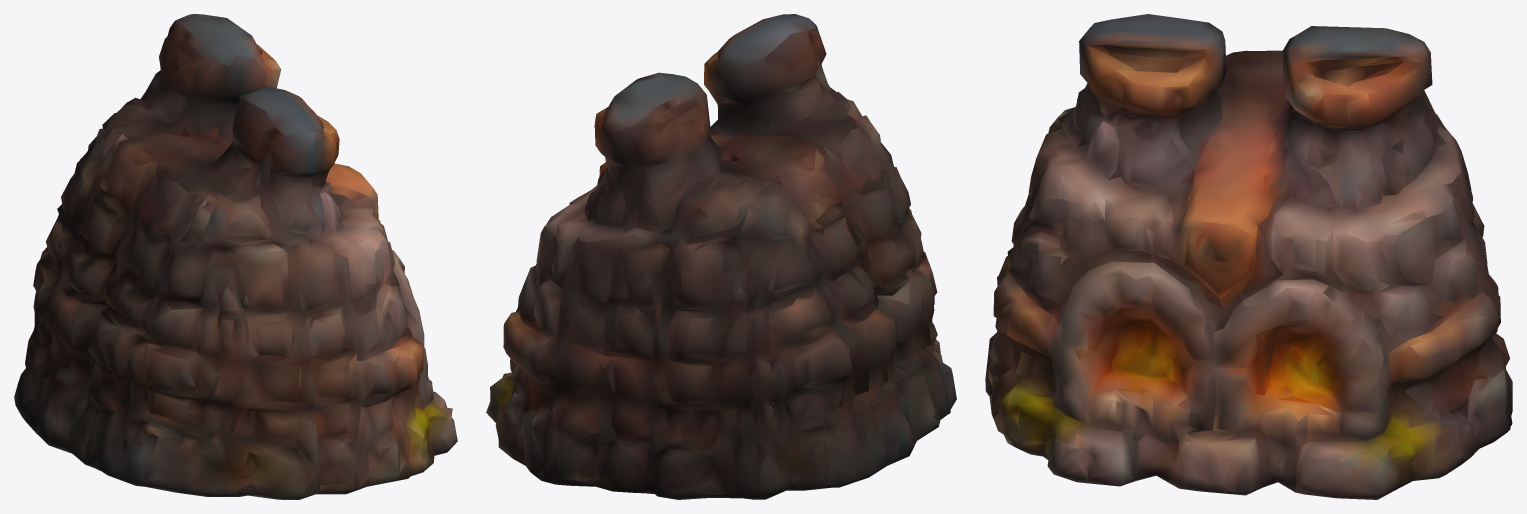
The model's file is twin_smelter.glb.
3 views of the same model, side by side, from view 1: azimuth 30°, elevation 25°; view 2: azimuth 150°, elevation 25°; view 3: azimuth 270°, elevation 25° (orthographic). The views are drawn at different scales.
Visible parts, largest first — view 1: model; view 2: model; view 3: model.
Boxes of the visible parts, <box> form: model: <box>14,14,457,499</box>; model: <box>486,14,956,499</box>; model: <box>985,14,1512,499</box>.
Size of the model in its own units: 1.41 by 1.36 by 1.6.
1 material, 1 textured.
